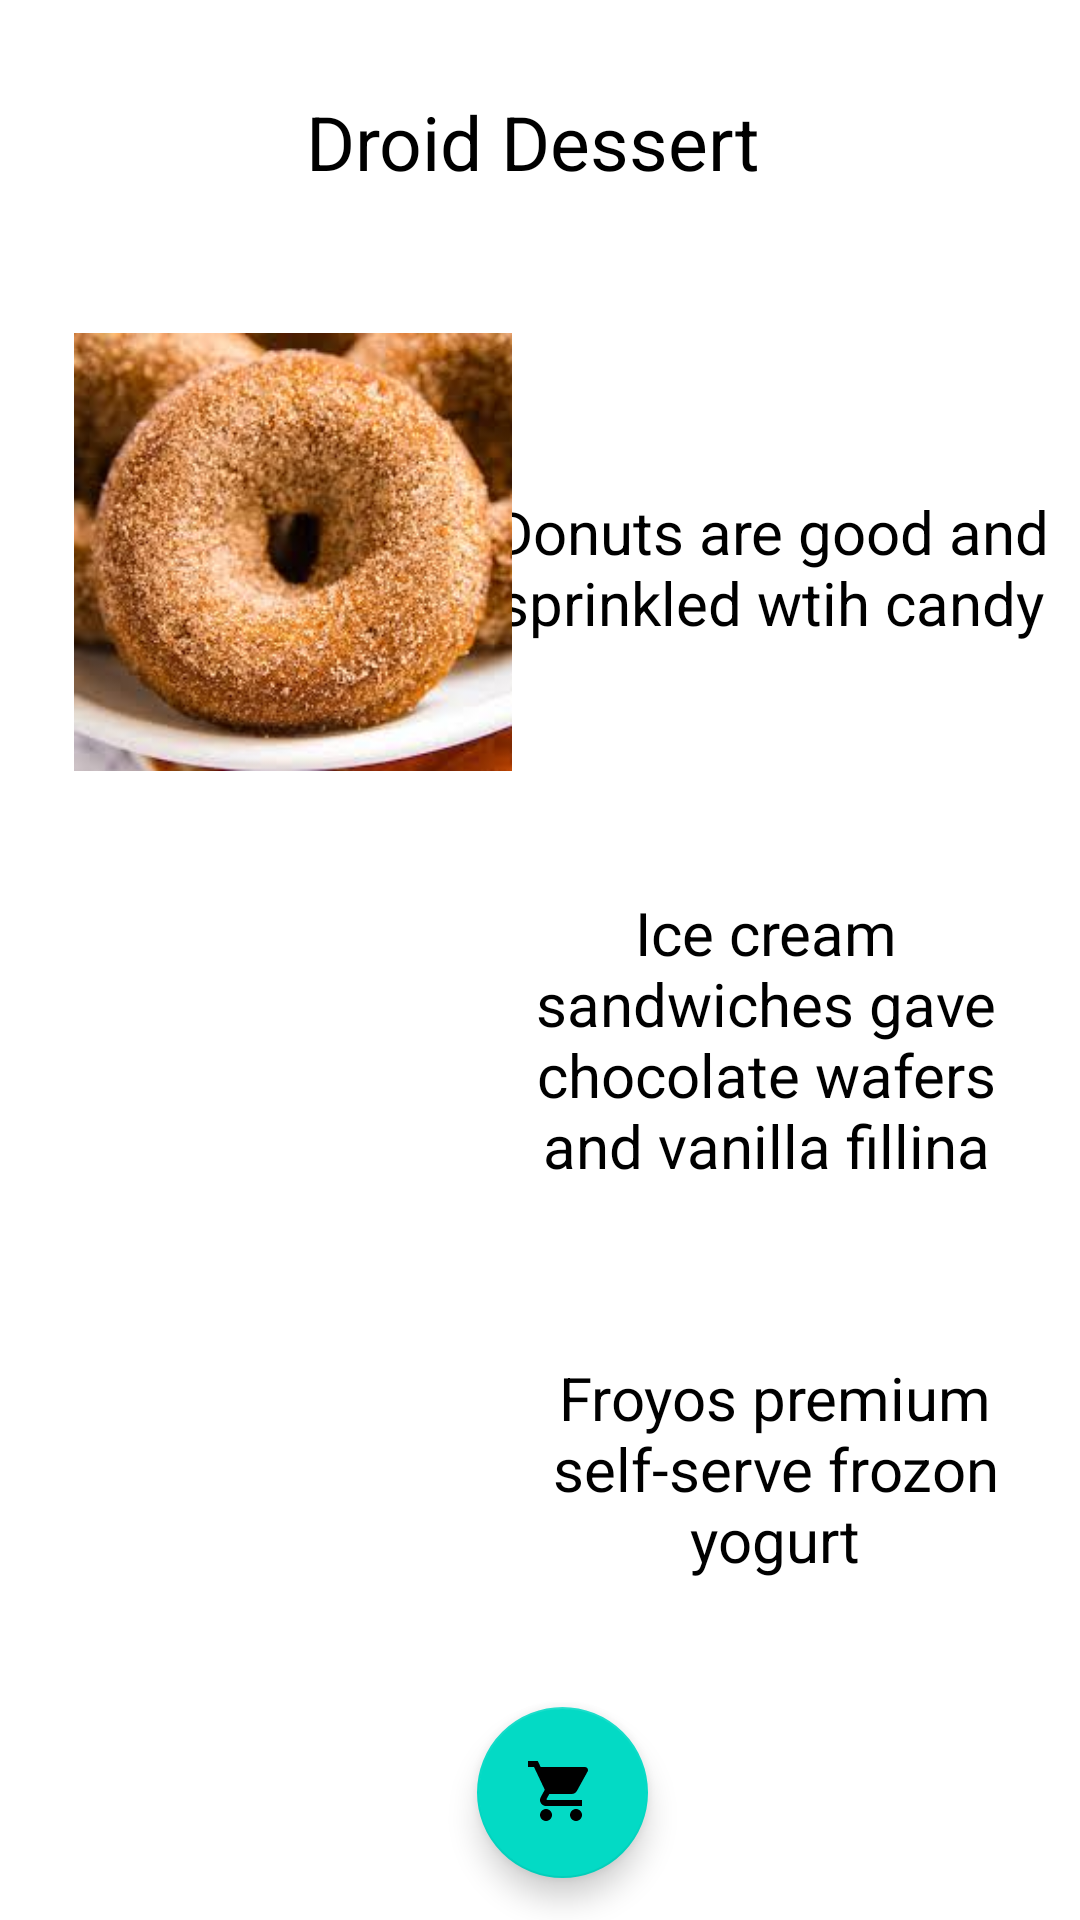

Icons on this 1080 × 1920 Android screen, each with its box as (x1, y1, x2, y2):
shopping: (477, 1707, 648, 1878)
